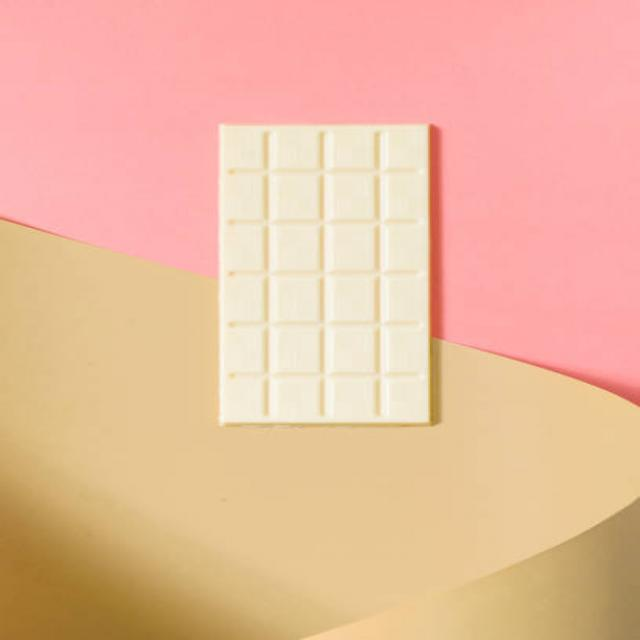Chocolate: (218, 121, 440, 424)
